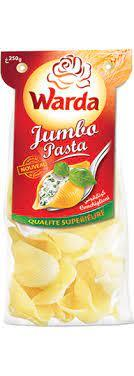Escargot: (5, 50, 131, 326)
